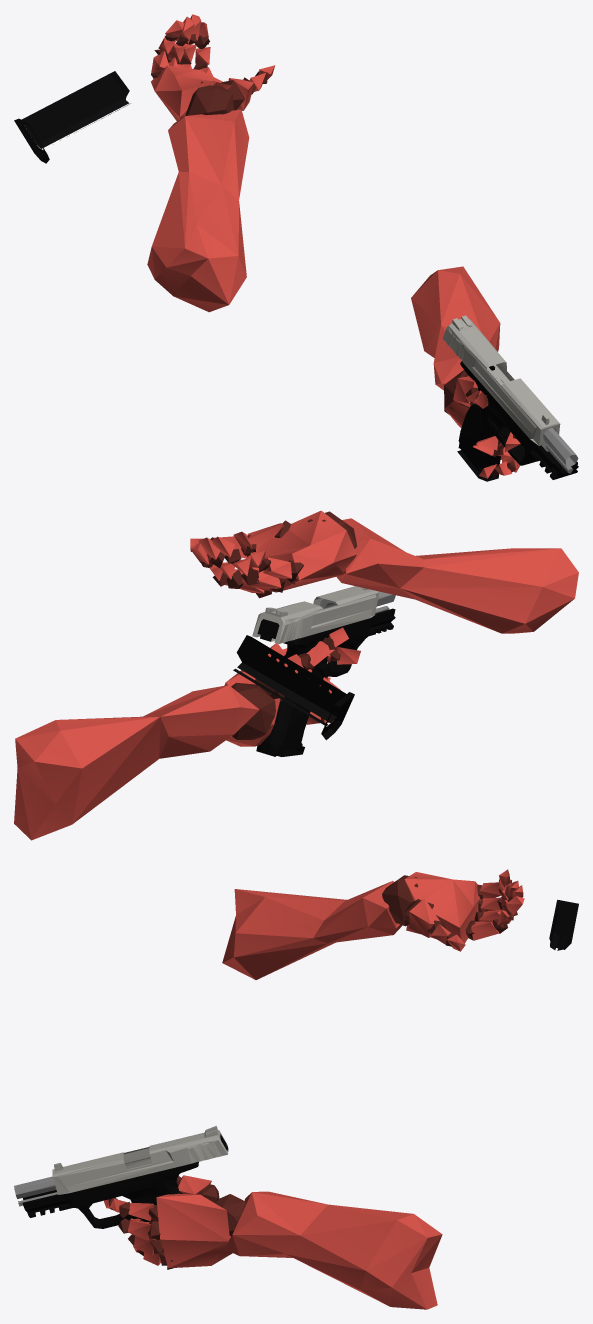
Rendered from M&P9reloadNormal1lowP_000117.obj.
3 renders of one model, top to bottom at view 1: azimuth 30°, elevation 25°; view 2: azimuth 150°, elevation 25°; view 3: azimuth 270°, elevation 25°, orthographic. The views are drawn at different scales.
Visible parts, largest first — view 1: Beta_Surface.001_Beta_Surface.002, slide_平面.002, triger_平面.001, magazine.002_平面.005, Beta_Joints.001_Beta_Joints.002; view 2: Beta_Surface.001_Beta_Surface.002, magazine.002_平面.005, triger_平面.001, slide_平面.002, Beta_Joints.001_Beta_Joints.002; view 3: Beta_Surface.001_Beta_Surface.002, slide_平面.002, triger_平面.001, Beta_Joints.001_Beta_Joints.002, magazine.002_平面.005.
Part boxes in pixels (x1,y1,x2,y2): Beta_Surface.001_Beta_Surface.002: [147, 14, 520, 478]; slide_平面.002: [443, 315, 560, 451]; triger_平面.001: [458, 361, 578, 479]; magazine.002_平面.005: [14, 71, 130, 163]; Beta_Joints.001_Beta_Joints.002: [151, 33, 516, 478]; Beta_Surface.001_Beta_Surface.002: [14, 510, 578, 840]; magazine.002_平面.005: [233, 635, 354, 740]; triger_平面.001: [256, 591, 395, 756]; slide_平面.002: [252, 586, 379, 643]; Beta_Joints.001_Beta_Joints.002: [200, 511, 357, 739]; Beta_Surface.001_Beta_Surface.002: [104, 869, 524, 1309]; slide_平面.002: [52, 1126, 228, 1194]; triger_平面.001: [14, 1162, 198, 1228]; Beta_Joints.001_Beta_Joints.002: [108, 875, 517, 1265]; magazine.002_平面.005: [549, 899, 578, 950].
Size of the model in its own units: 83.78 by 68.84 by 105.
